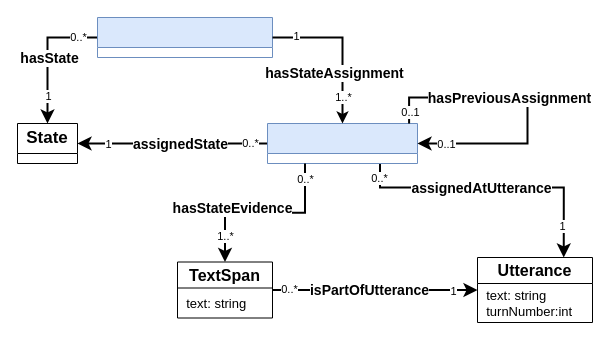
Some shapes in this 610 by 340 pixel diagram are drawn without their labels. The shapes that lost their labels are listed below. From the top down, each one's centre as x and y in pixels, then its label:
(x=184, y=37): MilestoneWithState
(x=342, y=143): StateAssignment
